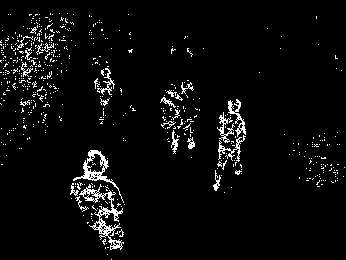person: (69, 148, 128, 251), (211, 98, 246, 192), (158, 83, 185, 156), (177, 78, 200, 151), (93, 66, 116, 125)
